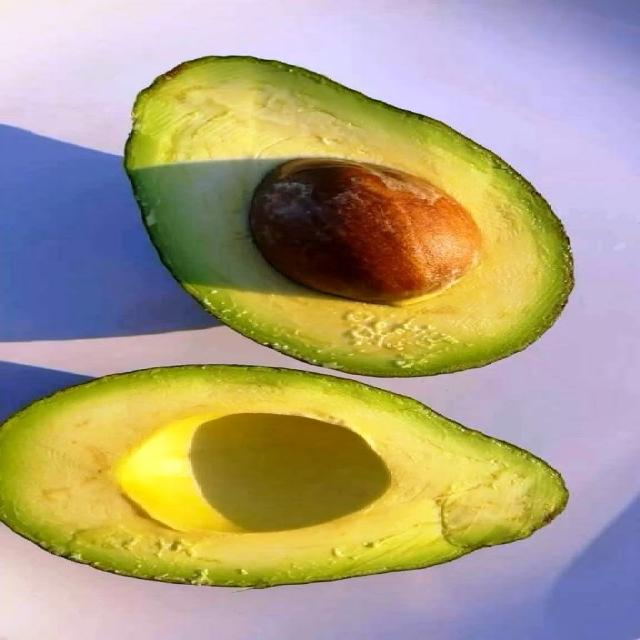avocado: (126, 57, 572, 376), (0, 365, 566, 586)
